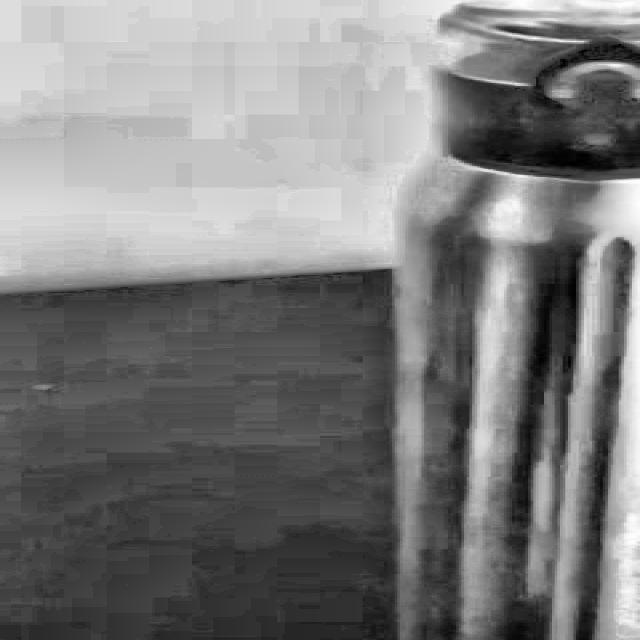bottle: (392, 0, 640, 640)
